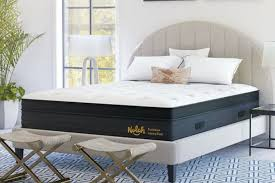bed-matress: (19, 75, 262, 143)
